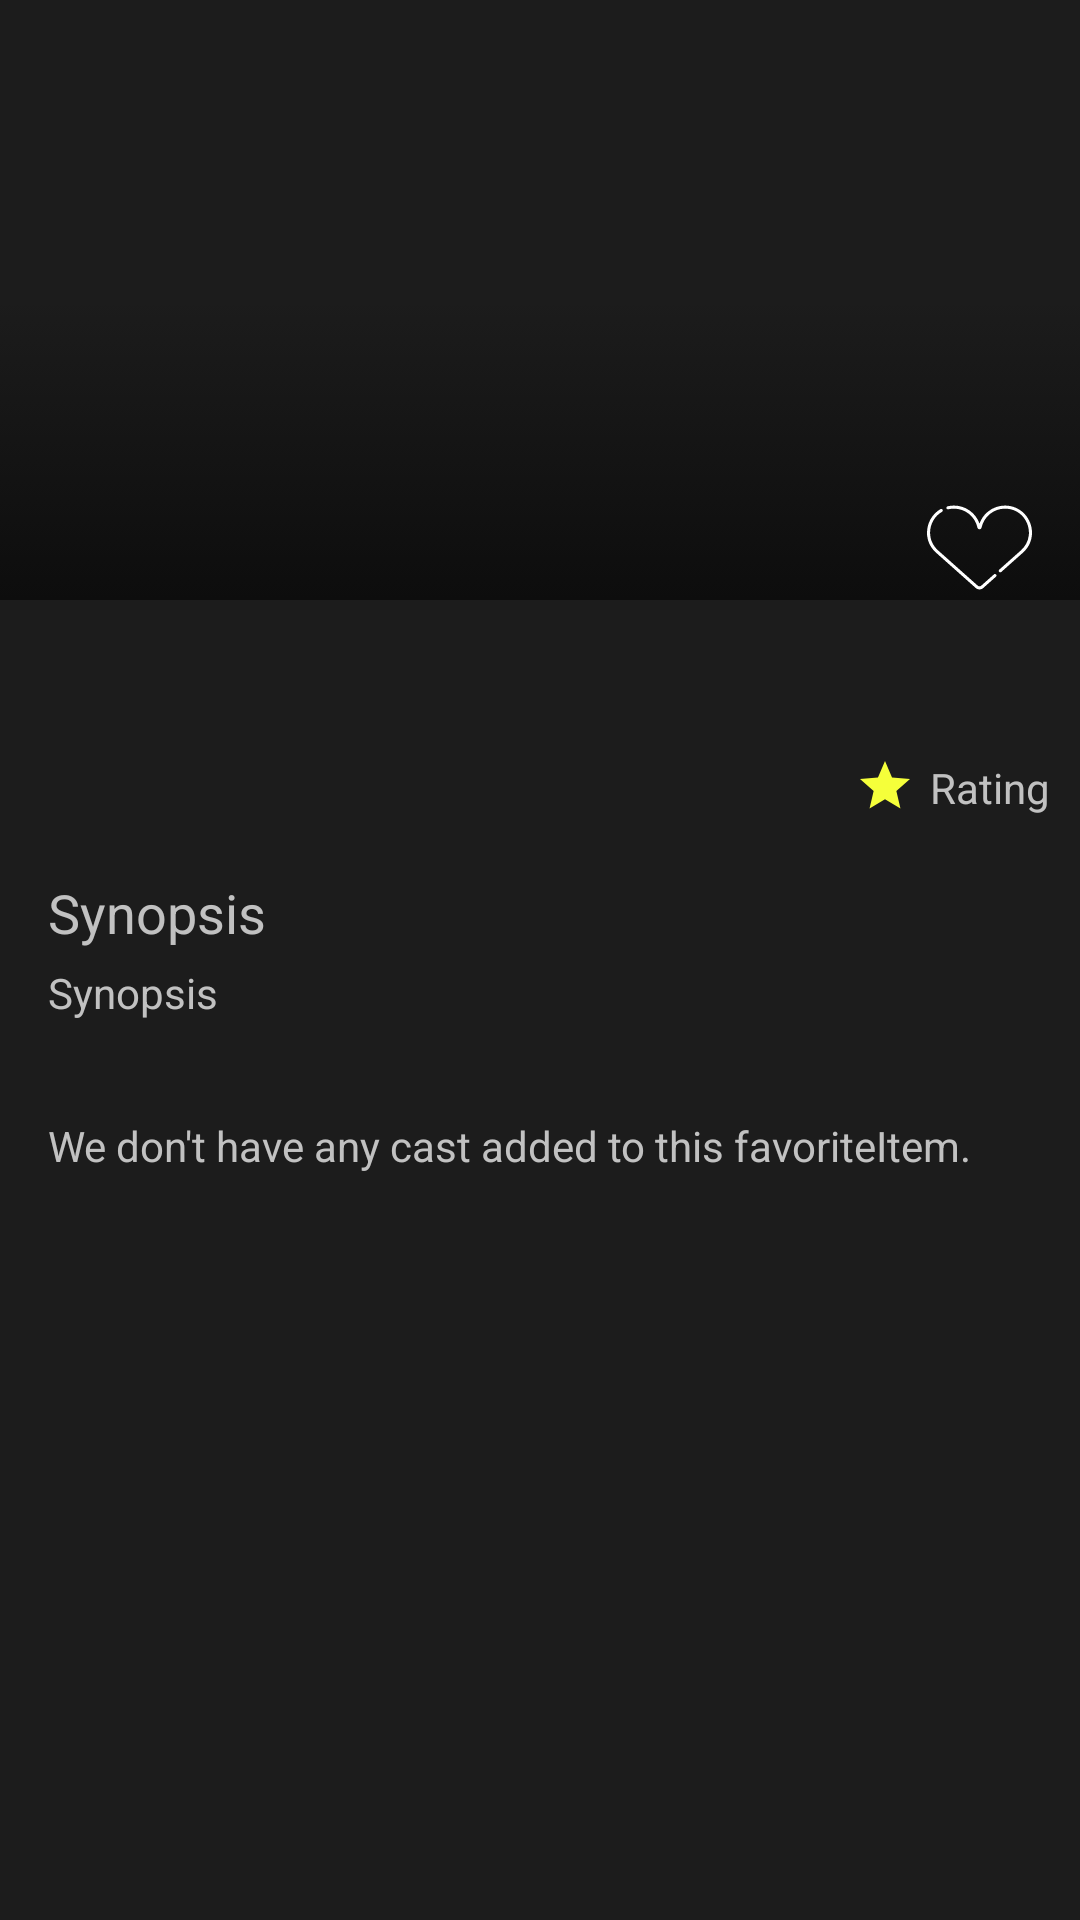

Where icons sit on this 1080×1920 app screen, as (x1, y1, x2, y2):
heart: (927, 505, 1032, 590)
to display star: (860, 761, 910, 809)
